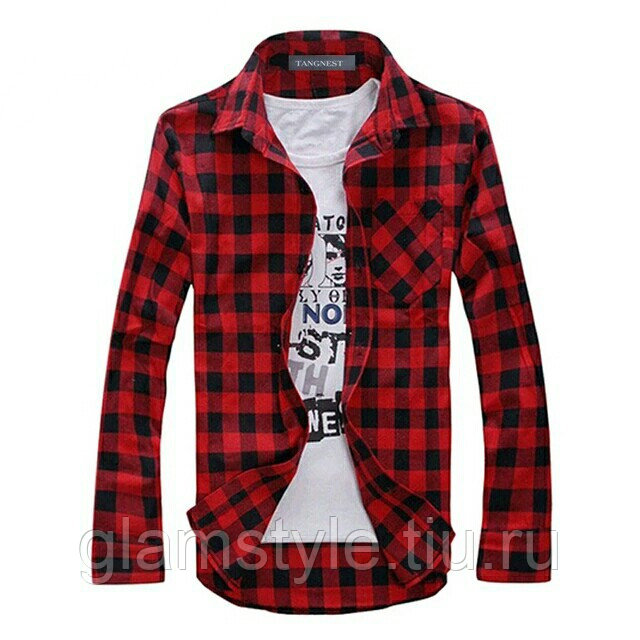squared: (80, 26, 578, 615)
